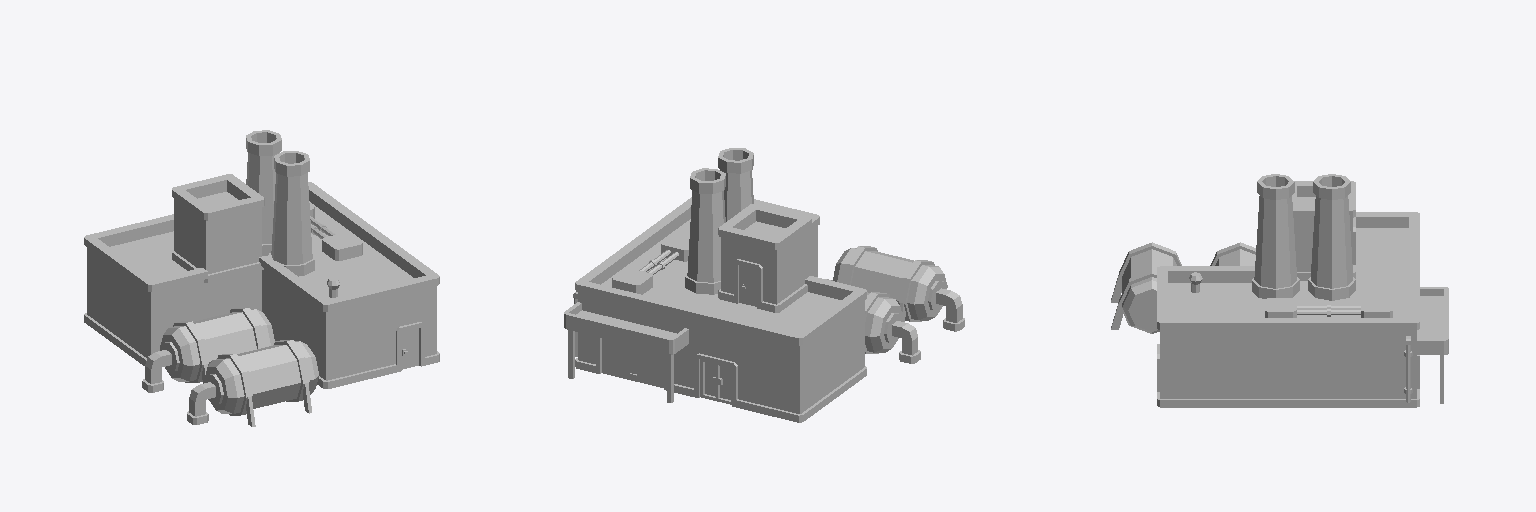
File: industrial_building-c.obj
The picture shows the model from 3 angles: view 1: azimuth 30°, elevation 25°; view 2: azimuth 150°, elevation 25°; view 3: azimuth 270°, elevation 25°; orthographic projection.
Parts seen in each view (by area): view 1: building-c; view 2: building-c; view 3: building-c.
Part boxes in pixels (x1,y1,x2,y2): building-c: (84,130,439,426); building-c: (564,148,964,422); building-c: (1111,174,1448,407).
Bounding box in the file's own units: 1.88 × 1.25 × 2.11.